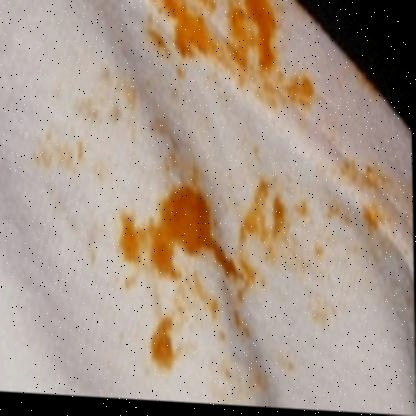kimchi: (296, 157, 393, 231), (151, 193, 239, 274), (147, 105, 200, 192), (244, 176, 295, 253), (213, 342, 282, 396), (220, 61, 305, 104), (296, 229, 329, 320), (176, 279, 226, 335), (166, 0, 212, 58), (112, 211, 155, 267), (138, 318, 176, 371), (245, 0, 278, 58), (38, 128, 87, 163), (95, 75, 138, 113), (221, 0, 240, 58), (229, 309, 250, 344)
